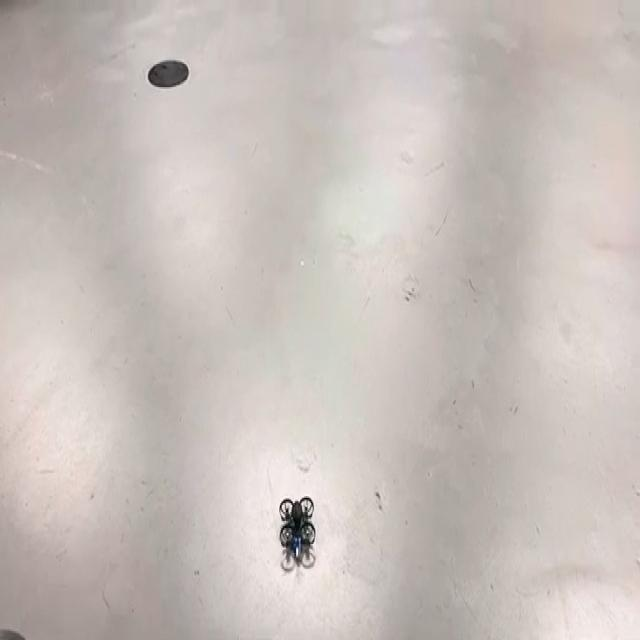drone: (273, 480, 325, 575)
